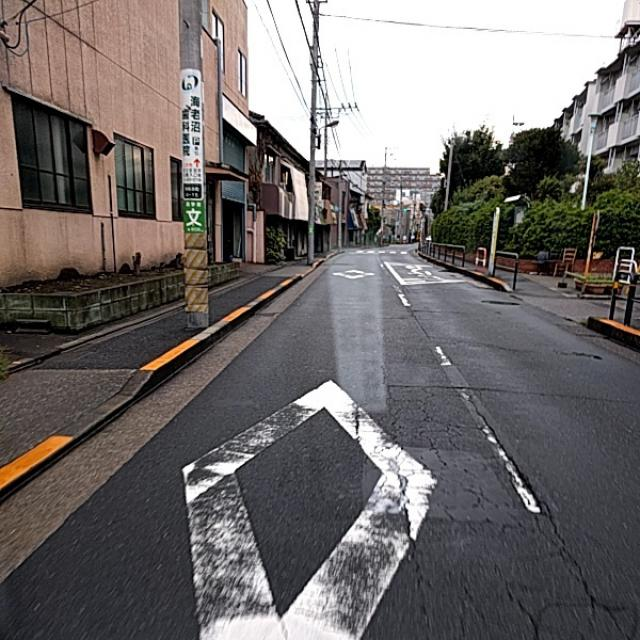pothole: (376, 367, 563, 602)
